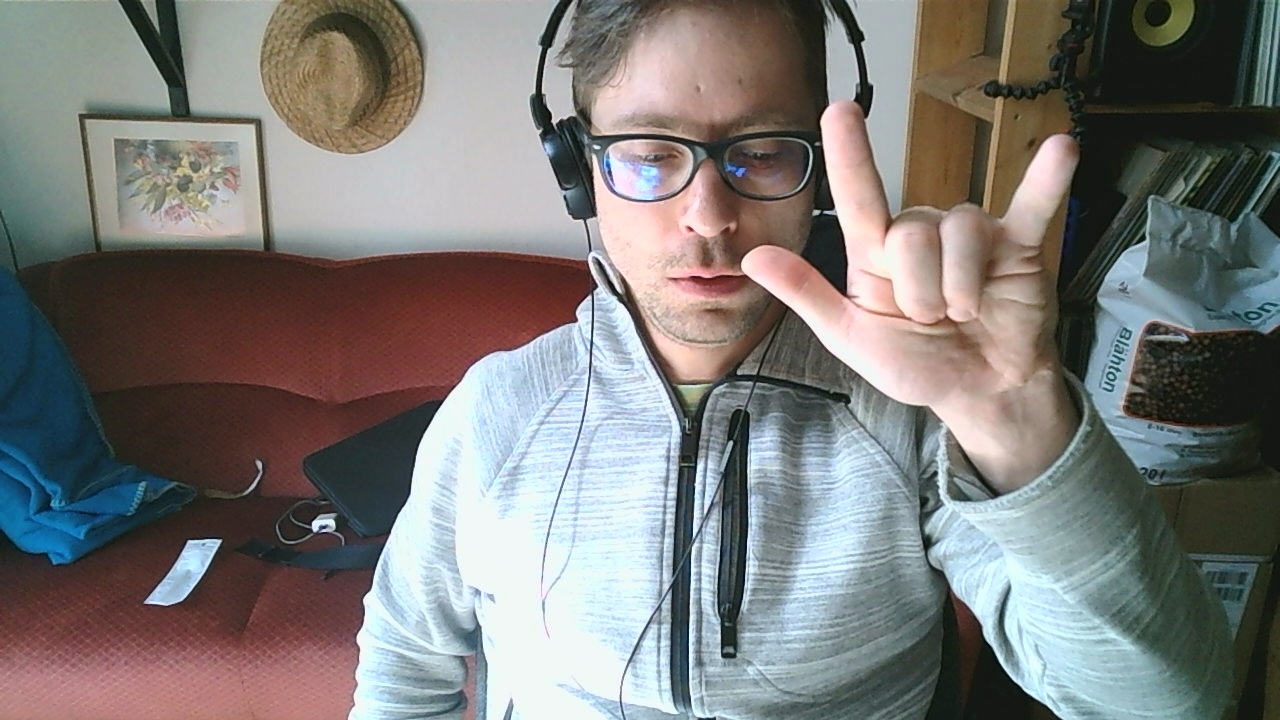iloveyou: (741, 96, 1081, 430)
